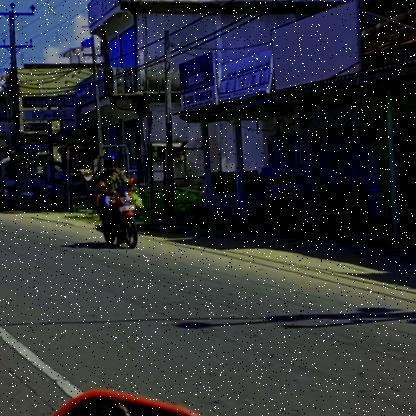motorcycle: (94, 185, 142, 249)
